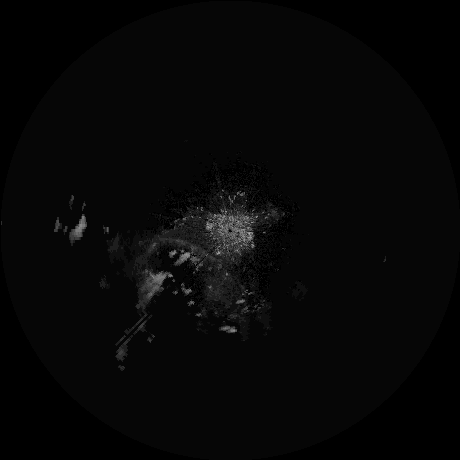frontgust: (157, 236, 224, 264)
